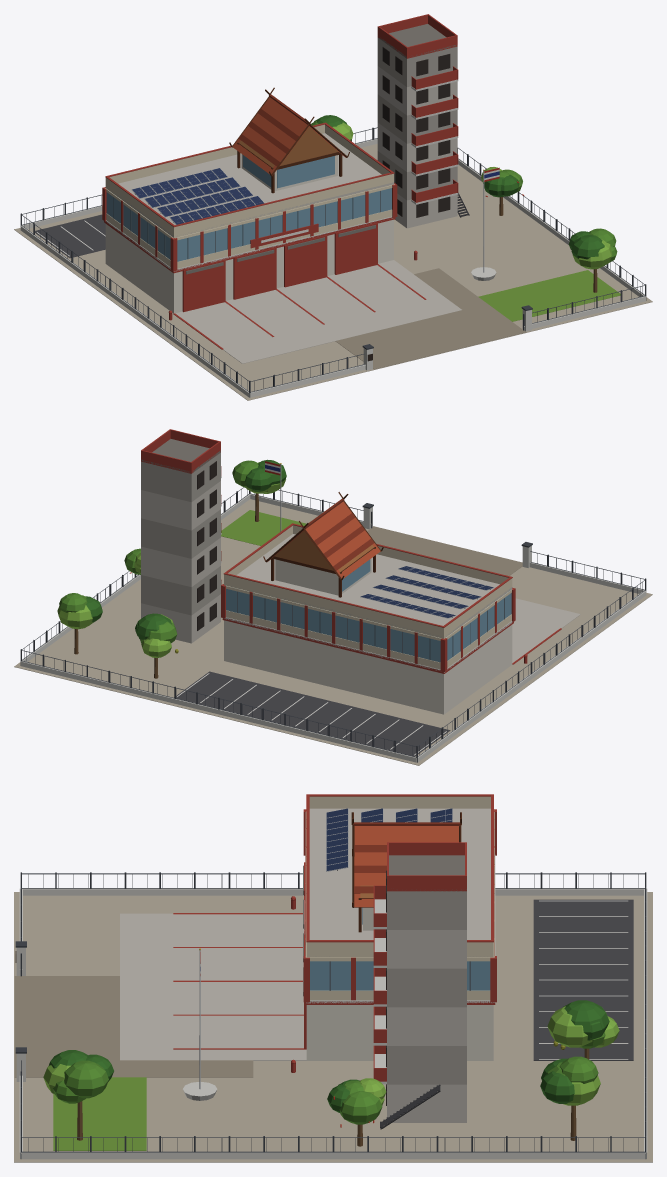
File: fire.glb
3 views of the same model, one above another, from view 1: azimuth 30°, elevation 25°; view 2: azimuth 150°, elevation 25°; view 3: azimuth 270°, elevation 25° (orthographic). The views are drawn at different scales.
Visible parts, largest first — view 1: body, windows; view 2: body, windows; view 3: body.
Boxes of the visible parts, x1=… form: body: x1=14, y1=14, x2=652, y2=400; windows: x1=382, y1=47, x2=450, y2=217; body: x1=14, y1=429, x2=652, y2=765; windows: x1=197, y1=461, x2=216, y2=630; body: x1=14, y1=794, x2=652, y2=1162.
Bounding box in the file's own units: 47.9 × 20.5 × 47.9.
